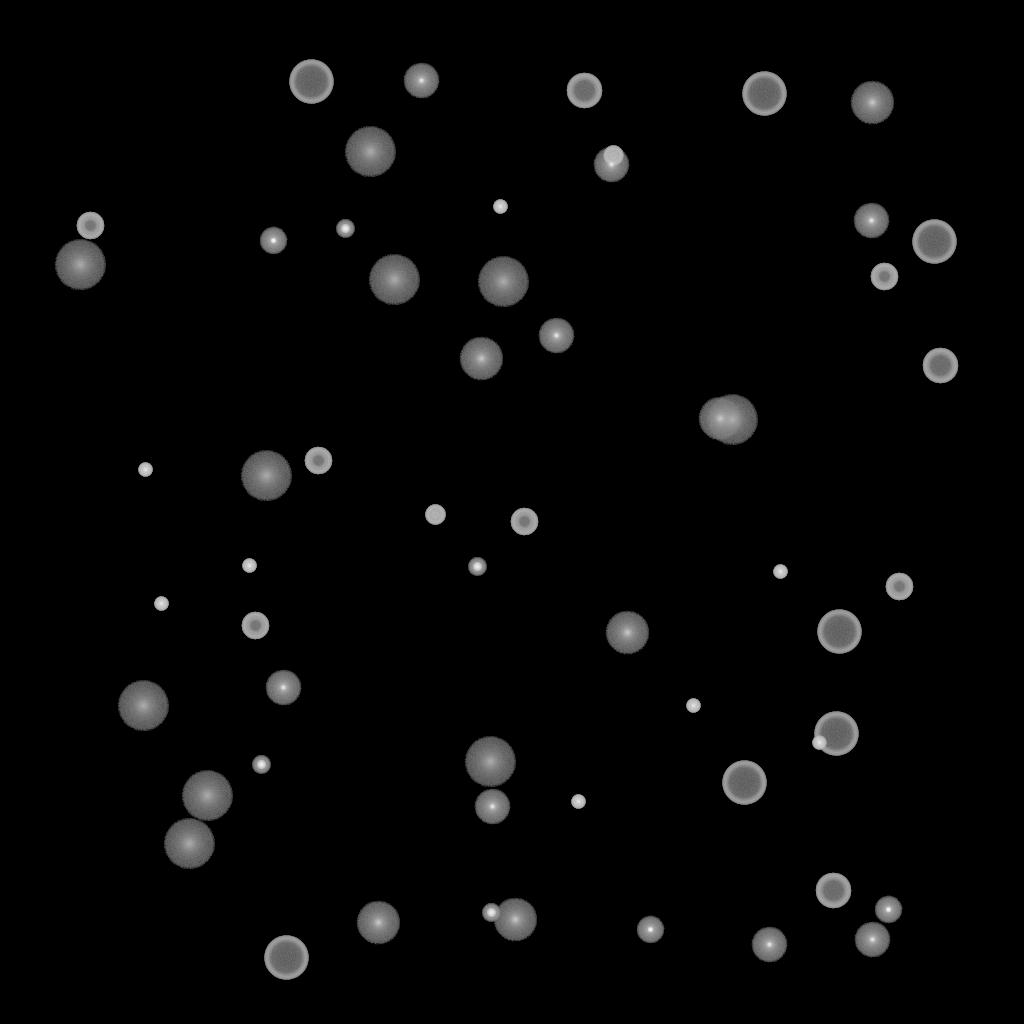depth:-10: (259, 227, 287, 255), (636, 916, 664, 944), (874, 896, 902, 924)
depth:-20: (482, 904, 500, 922), (252, 756, 270, 774), (468, 558, 486, 576), (336, 220, 354, 238)
depth:-30: (138, 463, 152, 477), (812, 736, 826, 750), (493, 200, 507, 214), (154, 597, 168, 611), (571, 795, 585, 809), (773, 565, 787, 579), (242, 559, 256, 573), (686, 699, 700, 713)
depth:-40: (603, 146, 623, 166), (425, 505, 445, 525)
depth:-50: (241, 612, 269, 640), (304, 447, 332, 475), (510, 508, 538, 536), (870, 263, 898, 291), (885, 573, 913, 601), (76, 212, 104, 240)
depth:-60: (922, 348, 958, 384), (815, 873, 851, 909), (566, 73, 602, 109)
depth:-70: (722, 761, 766, 805), (817, 610, 861, 654), (912, 220, 956, 264), (289, 60, 333, 104), (814, 712, 858, 756), (742, 72, 786, 116), (264, 936, 308, 980)
depth:0: (853, 203, 889, 239), (854, 922, 890, 958), (751, 927, 787, 963), (593, 147, 629, 183), (538, 318, 574, 354), (474, 789, 510, 825), (265, 670, 301, 706), (403, 63, 439, 99)
depth:10: (698, 397, 742, 441), (493, 898, 537, 942), (356, 901, 400, 945), (459, 337, 503, 381), (850, 81, 894, 125), (605, 611, 649, 655)
depth:20: (477, 257, 529, 307), (344, 127, 396, 177), (464, 737, 516, 787), (368, 255, 420, 305), (54, 240, 106, 290), (706, 395, 758, 445), (240, 451, 292, 501), (181, 771, 233, 821), (117, 681, 169, 731), (163, 819, 215, 869)
